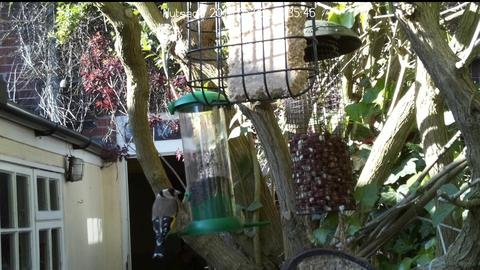goldfinch: (151, 187, 182, 258)
